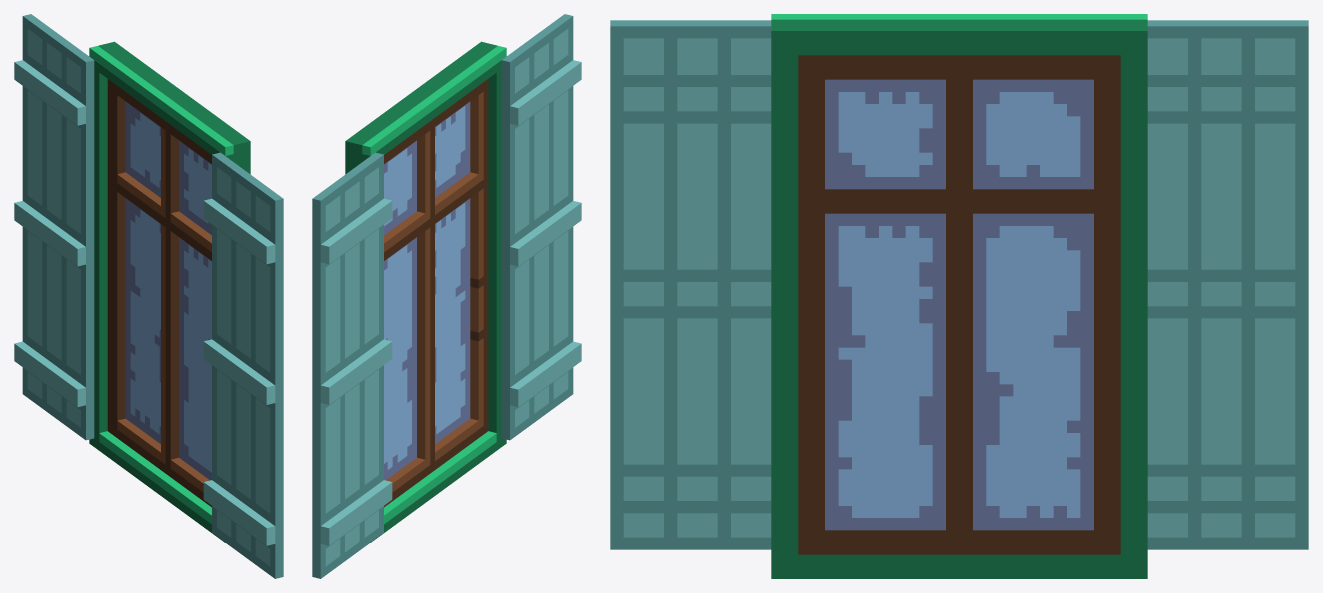
The model's file is window_textured_big_blue_green.obj.
3 renders of one model, left to right at view 1: azimuth 30°, elevation 25°; view 2: azimuth 150°, elevation 25°; view 3: azimuth 270°, elevation 25°, orthographic. The views are drawn at different scales.
Bounding box in the file's own units: 0.5 × 4.5 × 5.2.
Materials: 1 (1 with a texture image).
